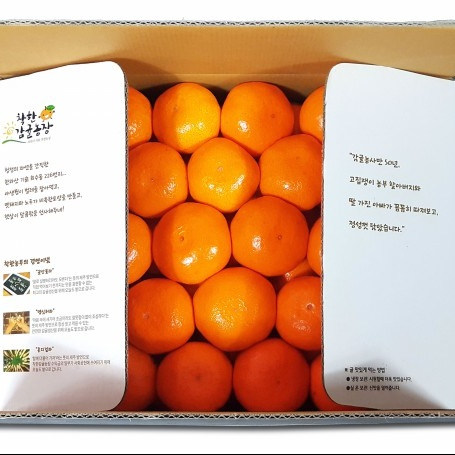mandarin: (193, 267, 276, 349), (153, 201, 229, 289), (219, 78, 296, 158), (231, 196, 308, 274), (231, 337, 310, 412), (187, 140, 262, 214), (153, 342, 231, 412), (258, 131, 323, 209), (128, 279, 193, 355), (153, 81, 220, 152), (125, 146, 187, 217), (276, 272, 325, 350), (123, 208, 153, 286), (128, 340, 158, 410), (126, 84, 151, 146), (299, 82, 321, 139), (306, 215, 323, 274)
